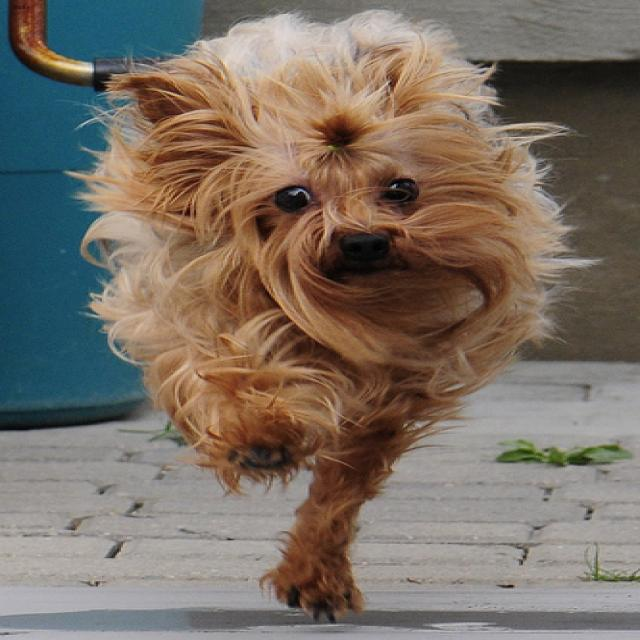dog-yorkshire_terrier: (50, 1, 613, 628)
